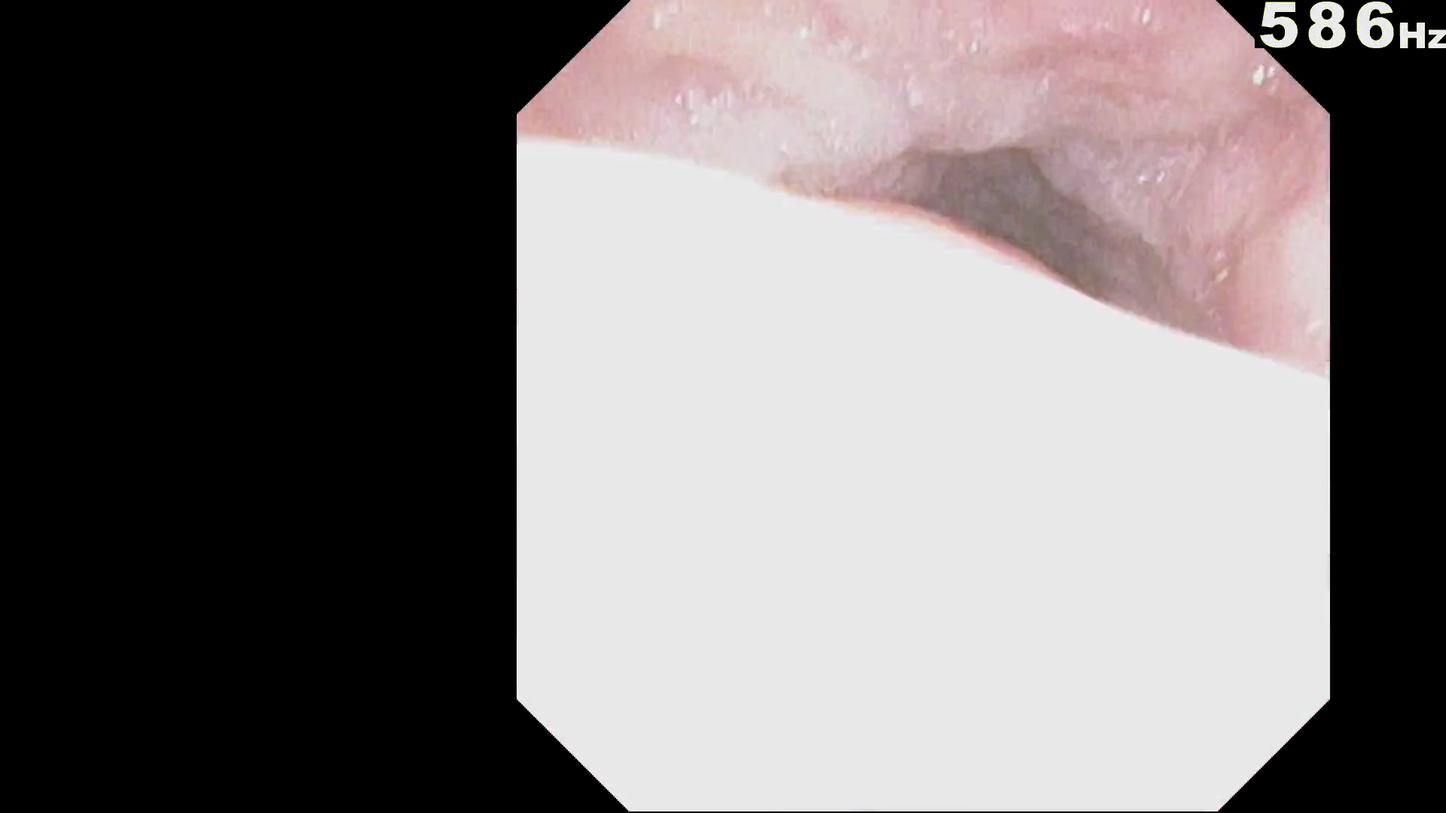epiglottis: (640, 272, 1293, 574)
